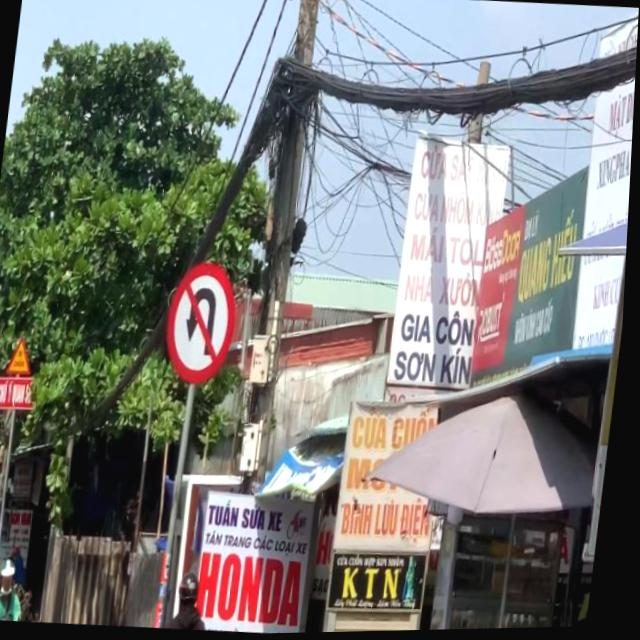Cam quay dau xe: (164, 260, 245, 387)
Di cham: (9, 335, 39, 376)
